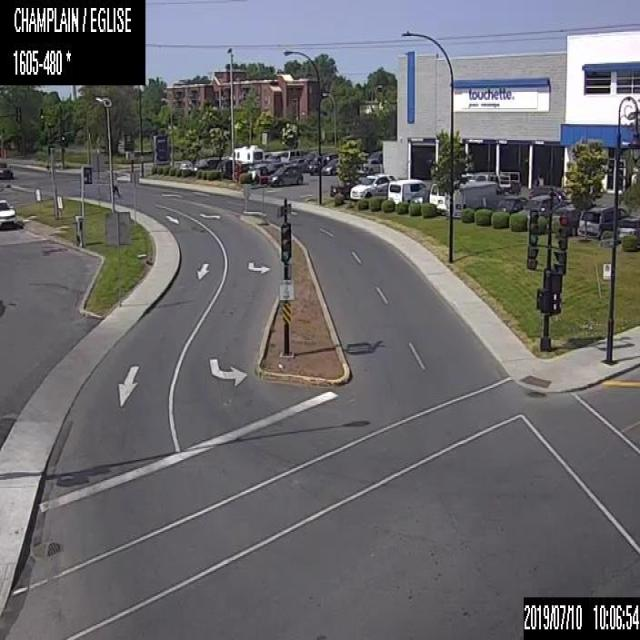pedestrian: (112, 171, 122, 201)
vehicle: (444, 179, 502, 214), (576, 203, 628, 239), (550, 202, 596, 234), (468, 170, 520, 194), (350, 172, 395, 198), (386, 177, 426, 203), (517, 194, 562, 217), (268, 162, 302, 185), (485, 194, 527, 212), (252, 160, 286, 182), (329, 177, 362, 199), (227, 144, 264, 162), (527, 184, 565, 201), (616, 216, 639, 242), (428, 181, 449, 208), (190, 156, 221, 172), (0, 196, 15, 228), (216, 158, 241, 174), (357, 157, 381, 173), (308, 155, 327, 174), (409, 187, 430, 204), (280, 148, 303, 163), (320, 157, 338, 174), (290, 157, 308, 172), (232, 163, 251, 176), (0, 161, 14, 178), (179, 160, 191, 174), (304, 152, 314, 160), (326, 152, 338, 158)
